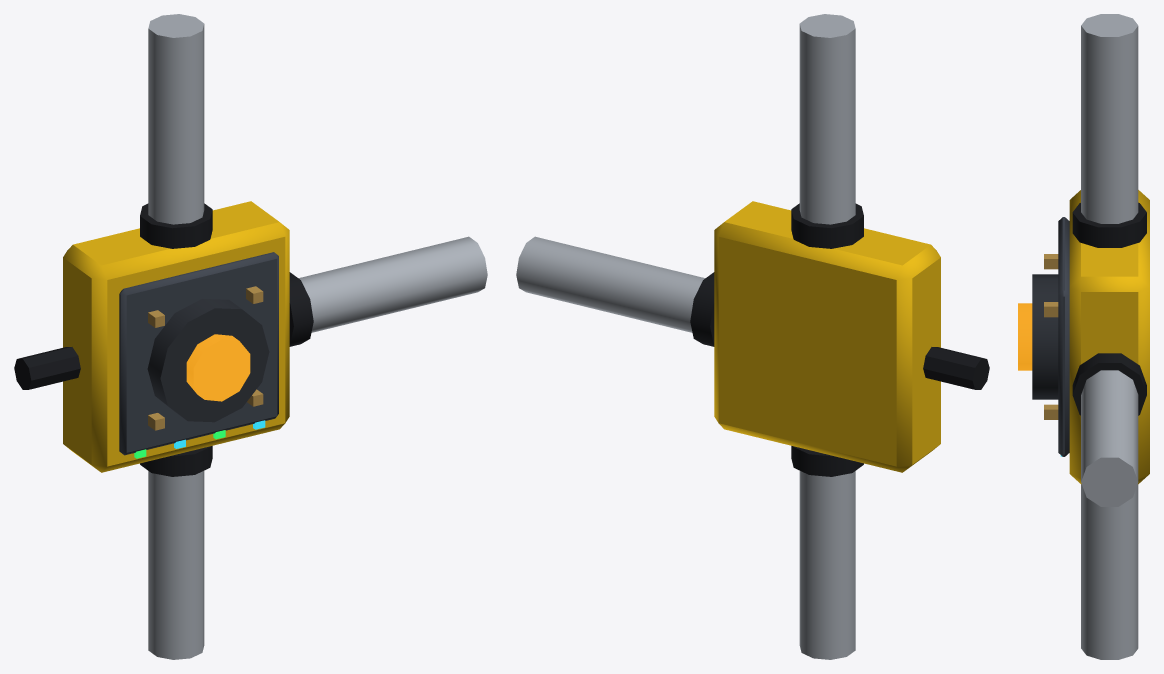
File: router_power_conduit_hub.glb
The picture shows the model from 3 angles, left to right: view 1: azimuth 30°, elevation 25°; view 2: azimuth 150°, elevation 25°; view 3: azimuth 270°, elevation 25°; orthographic projection.
Visible parts, largest first — view 1: router_power_conduit_hub; view 2: router_power_conduit_hub; view 3: router_power_conduit_hub.
Boxes of the visible parts, box(x1,y1,x2,y2) form: router_power_conduit_hub: box(14, 14, 487, 659); router_power_conduit_hub: box(516, 14, 989, 659); router_power_conduit_hub: box(1018, 14, 1149, 659).
Bounding box in the file's own units: 0.91 × 1.2 × 0.23.
